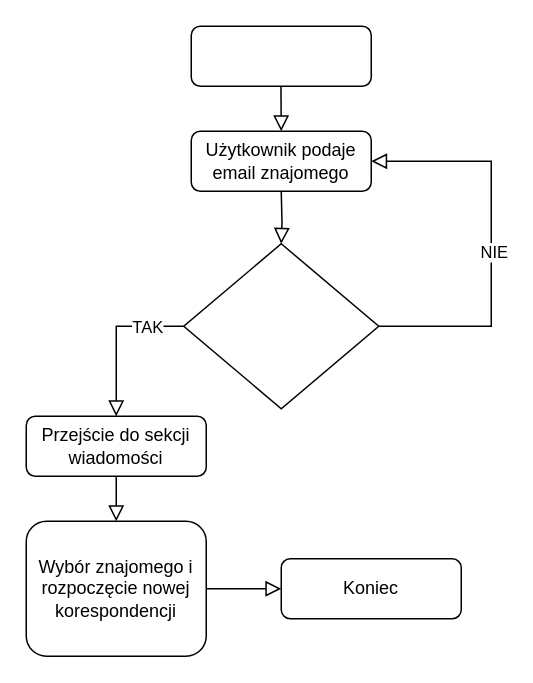
Image size: 533x683. Some labels were removed from this diagram. Each missing label, with the box of its shape:
Czy konto zostało wykryte?: (182, 242, 379, 409)
Korespondencja z nowym znajomym: (190, 25, 371, 86)
